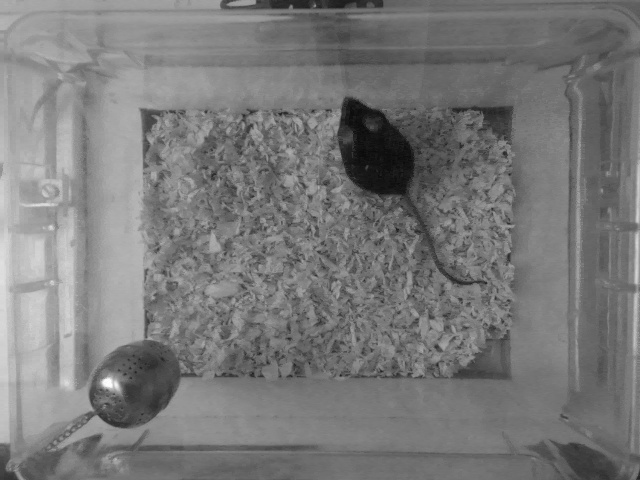mice: (328, 83, 487, 289)
